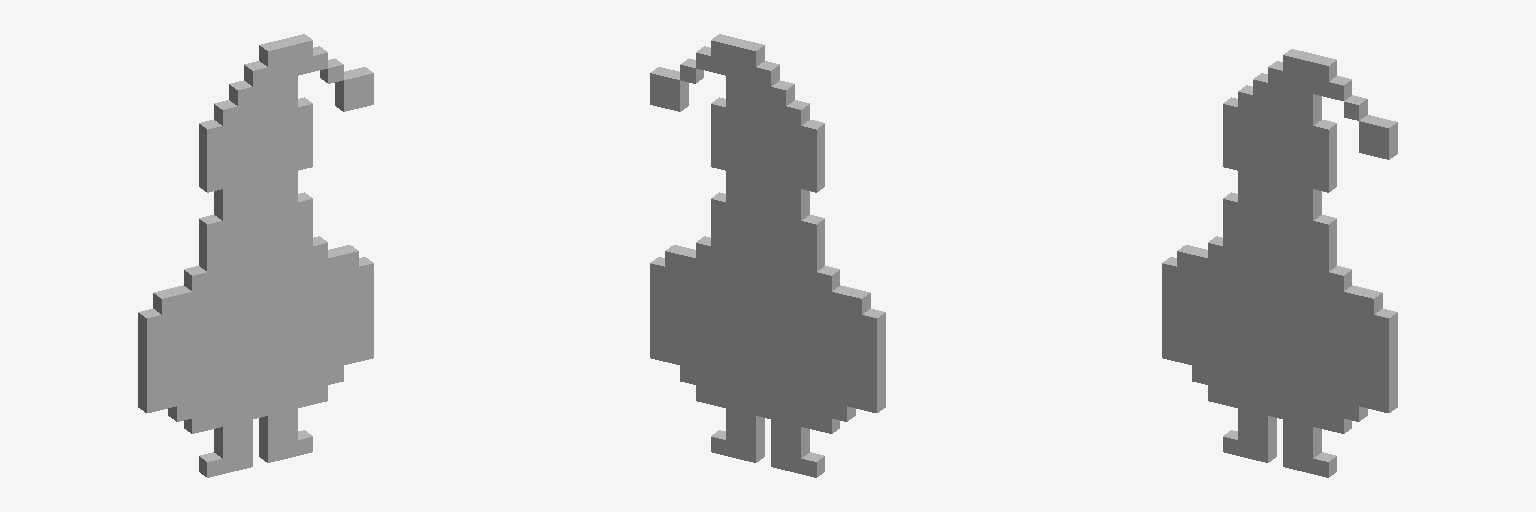
The model's file is дед мороз.obj.
The picture shows the model from 3 angles: view 1: azimuth 30°, elevation 25°; view 2: azimuth 150°, elevation 25°; view 3: azimuth 330°, elevation 25°; orthographic projection.
Visible parts, largest first — view 1: object 1; view 2: object 1; view 3: object 1.
Part boxes in pixels (bbox=[...]): object 1: bbox=[138, 34, 373, 477]; object 1: bbox=[650, 34, 885, 477]; object 1: bbox=[1162, 49, 1397, 477].
Bounding box in the file's own units: 1.5 × 2.6 × 0.1.